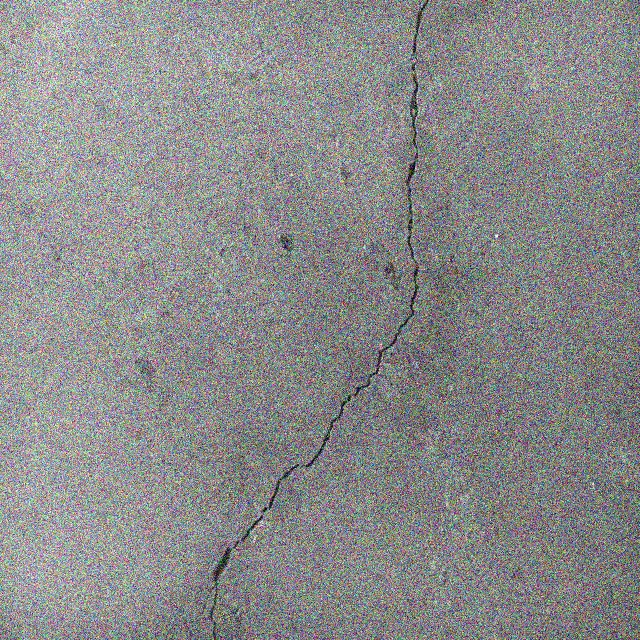SurfaceCrack: (163, 1, 454, 640)
